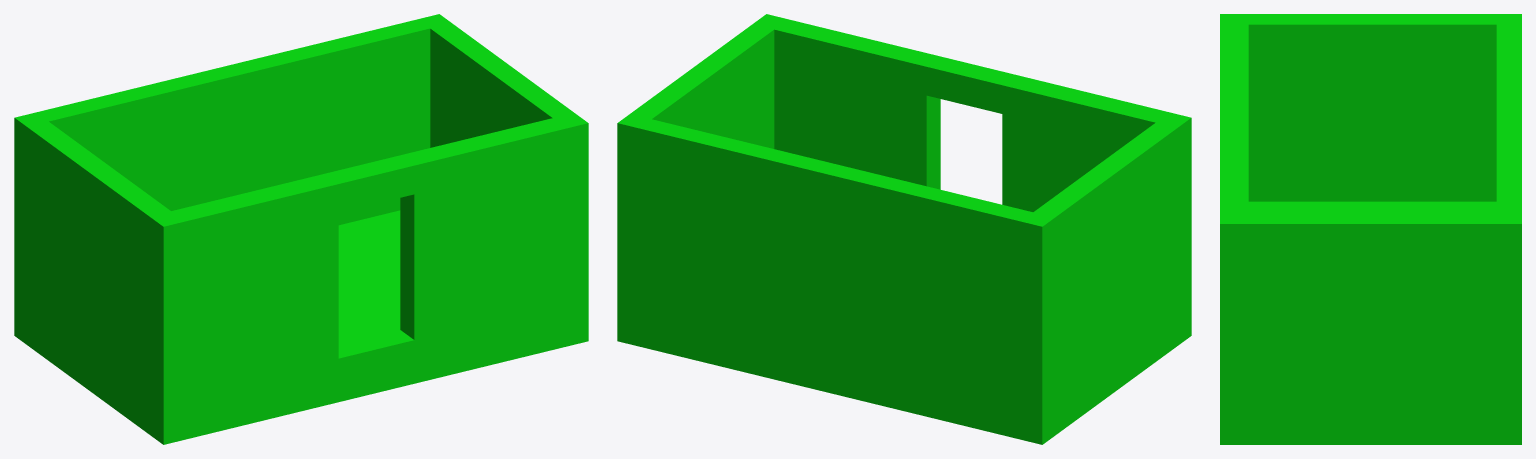
File: House Colider.fbx
The picture shows the model from 3 angles, left to right: view 1: azimuth 30°, elevation 25°; view 2: azimuth 150°, elevation 25°; view 3: azimuth 270°, elevation 25°; orthographic projection.
Parts seen in each view (by area): view 1: Cube.155; view 2: Cube.155; view 3: Cube.155.
Boxes of the visible parts, bbox=[...] form: Cube.155: bbox=[14, 14, 588, 444]; Cube.155: bbox=[617, 14, 1191, 444]; Cube.155: bbox=[1220, 14, 1521, 444].
Bounding box in the file's own units: 1019 × 500 × 619.
